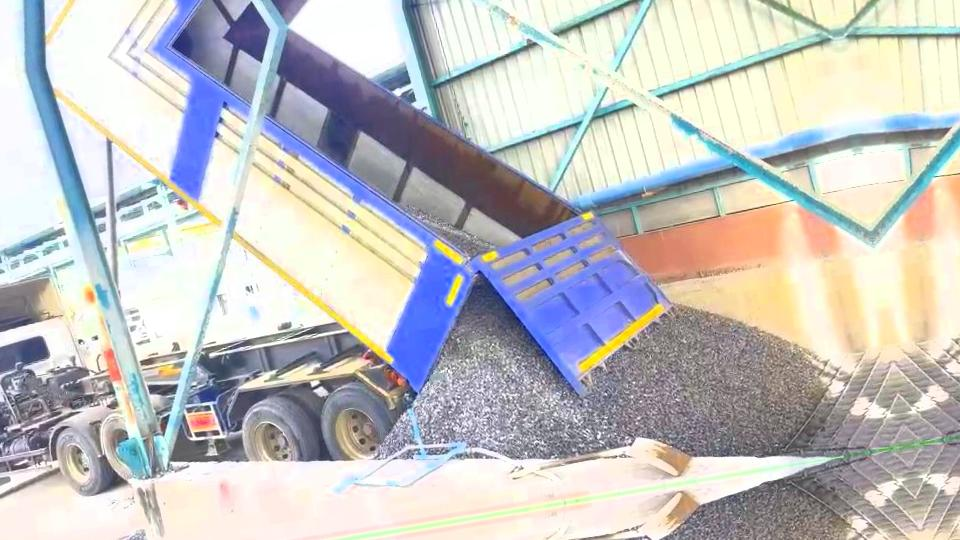gravel: (415, 281, 824, 458), (401, 206, 493, 257), (380, 413, 412, 457), (56, 531, 162, 540)
